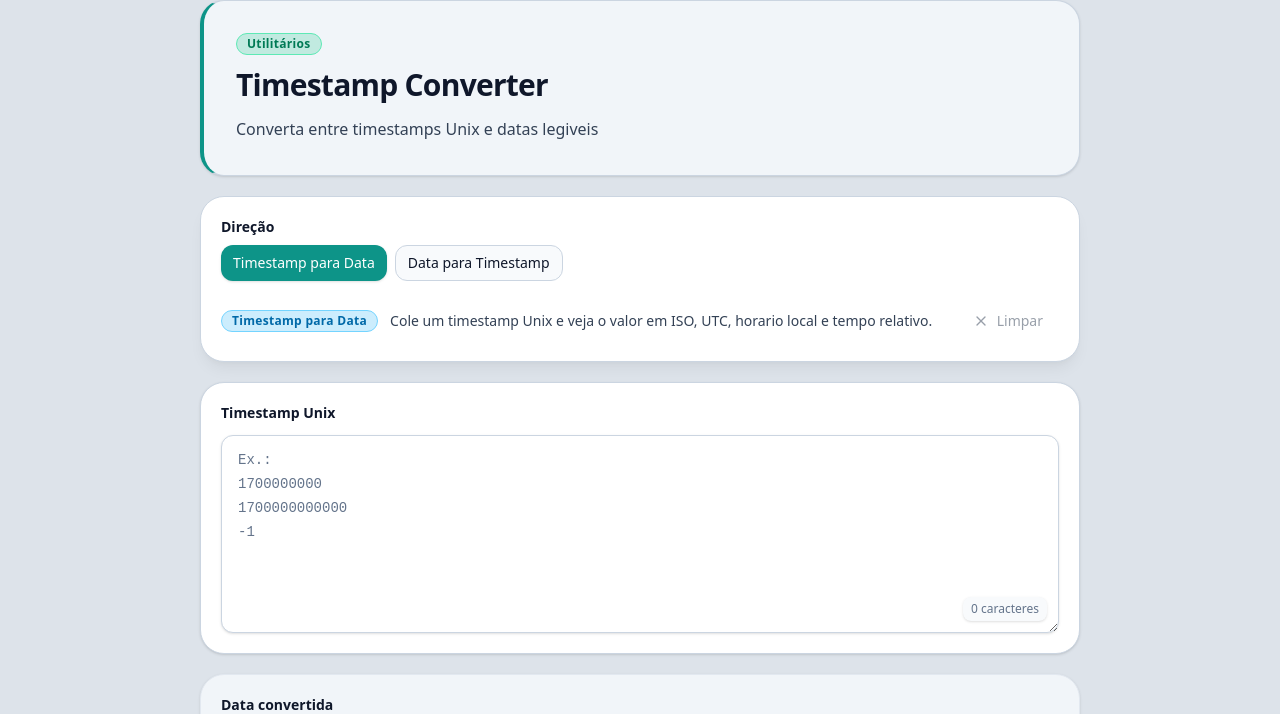
Test: TimestampConverterPage › converte timestamp, alterna para data e limpa os campos
This screenshot has width=1280, height=714.
Type "1700000000" into the text box labelled "Timestamp Unix" at x=640, y=534, box left=221, top=435, right=1059, bottom=633
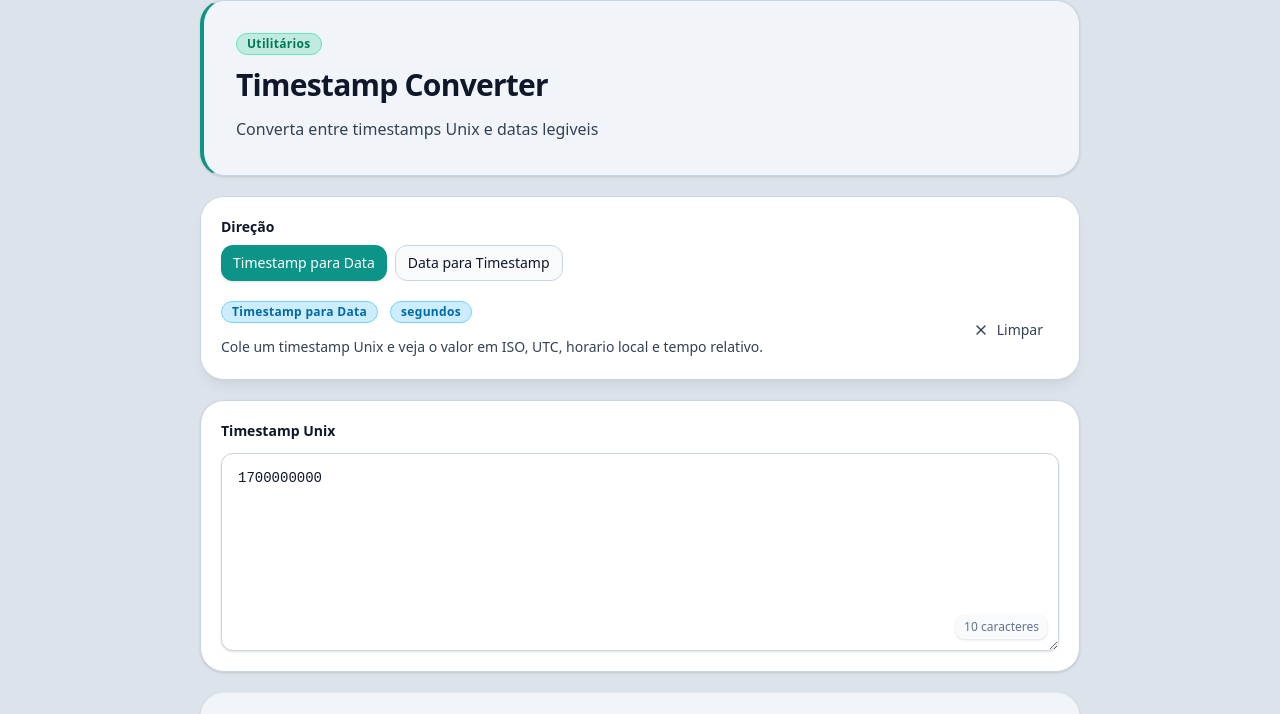
Result: the text "segundos" is shown at left=390, top=301, right=472, bottom=323
Click the button "Data para Timestamp" at x=479, y=263, box left=395, top=245, right=563, bottom=281
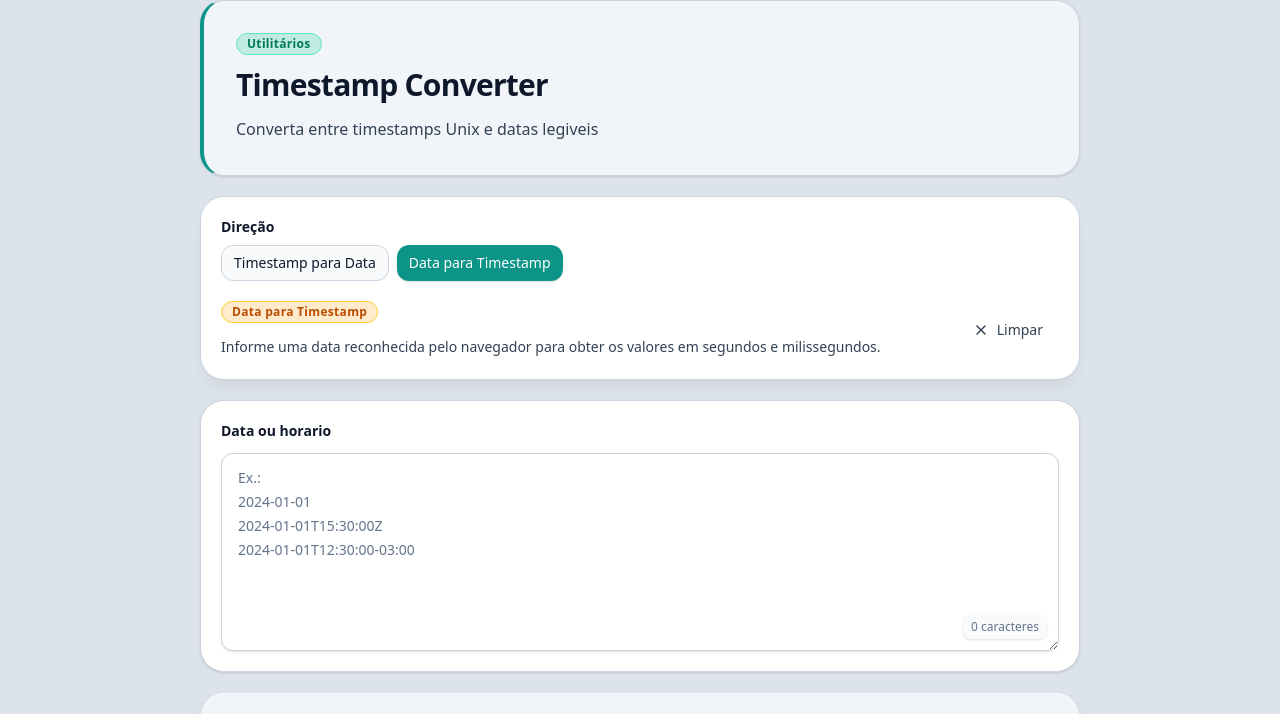
Replace the text in the text box labelled "Data ou horario" with "2024-01-01" at x=640, y=552, box left=221, top=453, right=1059, bottom=651
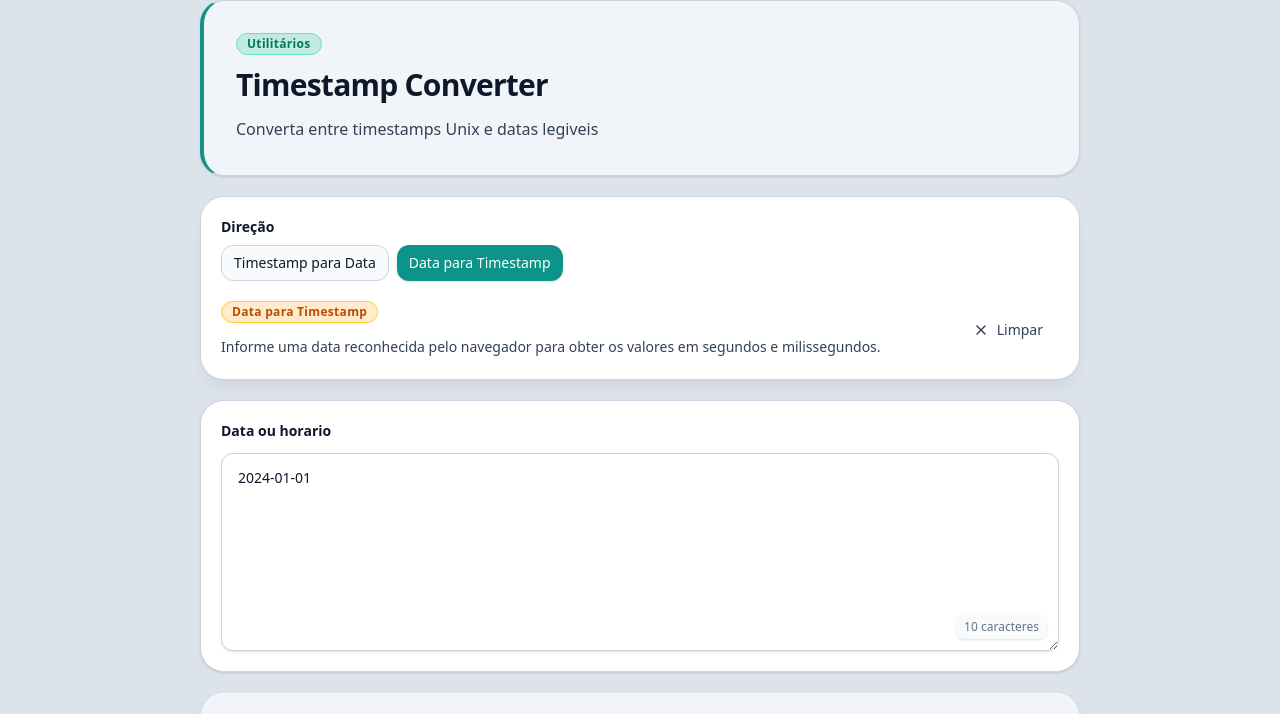
Click the button "Limpar" at x=1008, y=330, box left=957, top=310, right=1059, bottom=350
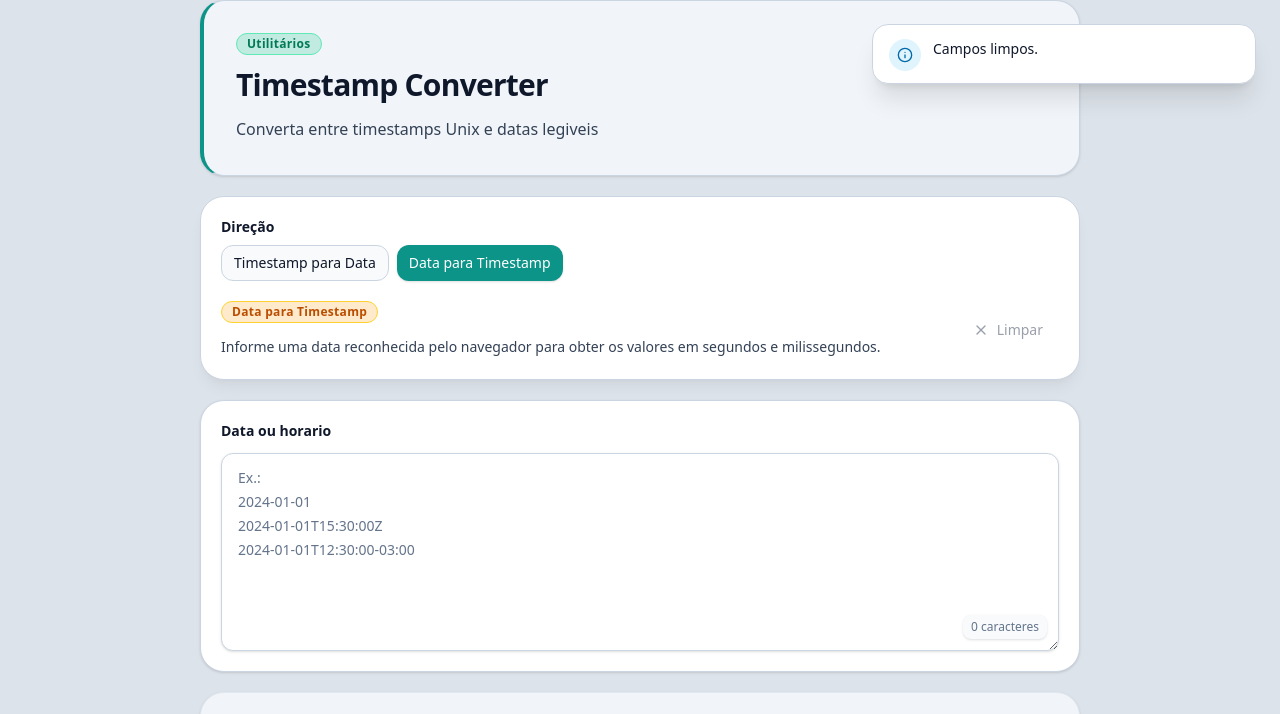
Result: the text box labelled "Data ou horario" is empty at left=221, top=453, right=1059, bottom=651
Result: the text "Campos limpos." is shown at left=933, top=37, right=1038, bottom=61
